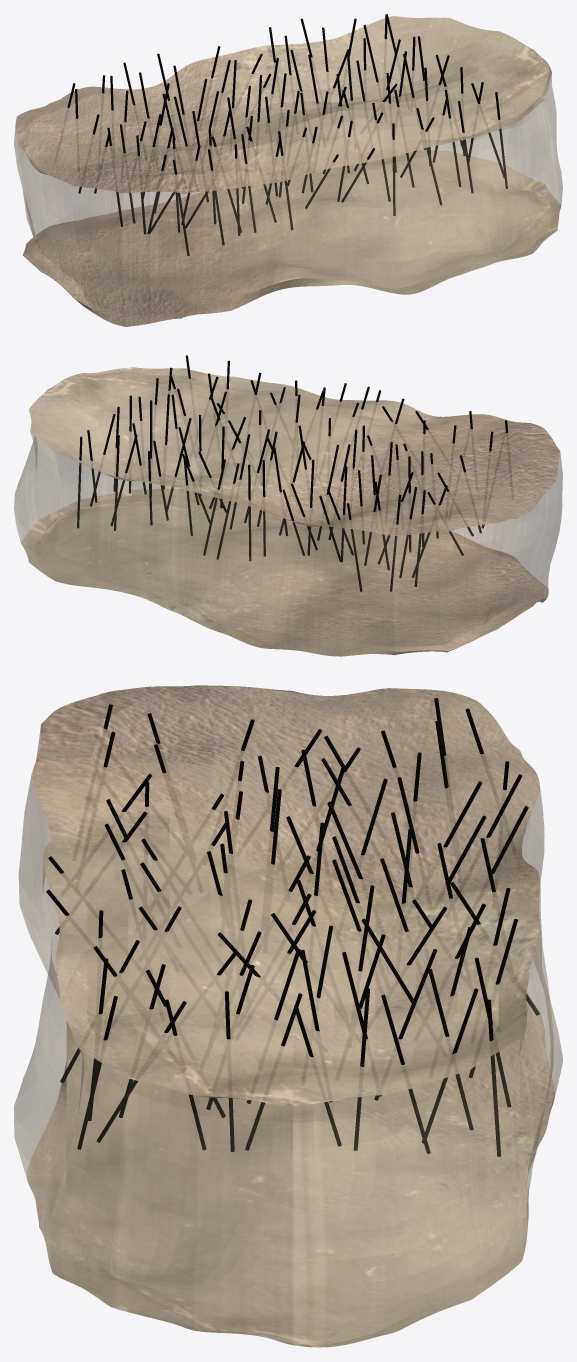
3 renders of one model, top to bottom at view 1: azimuth 30°, elevation 25°; view 2: azimuth 150°, elevation 25°; view 3: azimuth 270°, elevation 25°, orthographic. The views are drawn at different scales.
Parts seen in each view (by area): view 1: image_2026-07-06_13-10-52, Cylinder.050, Cylinder.049; view 2: image_2026-07-06_13-10-52, Cylinder.057, Cylinder.060, Cylinder.069, Cylinder.041, Cylinder.040, Cylinder.070, Cylinder.058; view 3: image_2026-07-06_13-10-52.
Boxes of the visible parts, x1=… form: image_2026-07-06_13-10-52: x1=14, y1=16, x2=562, y2=326; Cylinder.050: x1=173, y1=149, x2=224, y2=255; Cylinder.049: x1=241, y1=131, x2=293, y2=232; image_2026-07-06_13-10-52: x1=14, y1=367, x2=562, y2=656; Cylinder.057: x1=248, y1=460, x2=265, y2=560; Cylinder.060: x1=203, y1=459, x2=239, y2=559; Cylinder.069: x1=390, y1=490, x2=425, y2=591; Cylinder.041: x1=307, y1=459, x2=347, y2=562; Cylinder.040: x1=364, y1=474, x2=416, y2=578; Cylinder.070: x1=347, y1=481, x2=389, y2=591; Cylinder.058: x1=282, y1=489, x2=341, y2=561; image_2026-07-06_13-10-52: x1=14, y1=685, x2=562, y2=1347.
Size of the model in its own units: 2.04 by 0.696 by 1.11.
3 materials, 2 textured.
